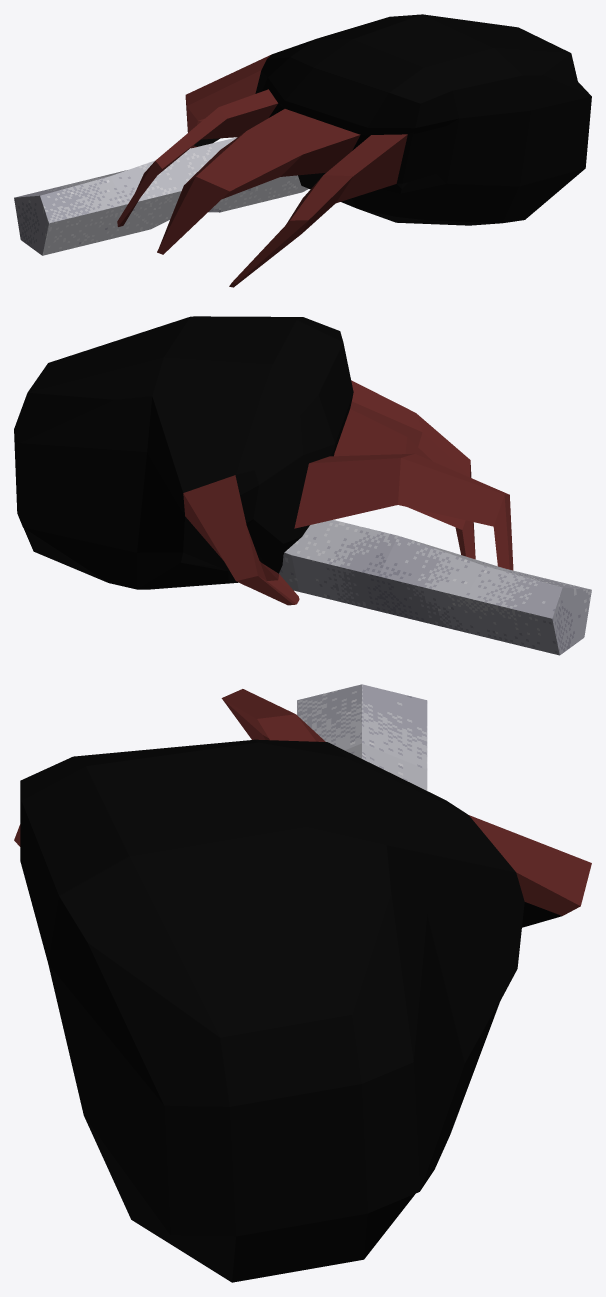
The model's file is Gesso_1_Con_Mano.fbx.
3 views of the same model, one above another, from view 1: azimuth 30°, elevation 25°; view 2: azimuth 150°, elevation 25°; view 3: azimuth 270°, elevation 25° (orthographic). The views are drawn at different scales.
Parts seen in each view (by area): view 1: Cube.003; view 2: Cube.003; view 3: Cube.003.
Part boxes in pixels (x1,y1,x2,y2): Cube.003: (14, 14, 591, 287); Cube.003: (14, 316, 591, 655); Cube.003: (14, 684, 591, 1282).
Size of the model in its own units: 0.5115 by 0.1912 by 0.2699.
3 materials, 1 textured.
